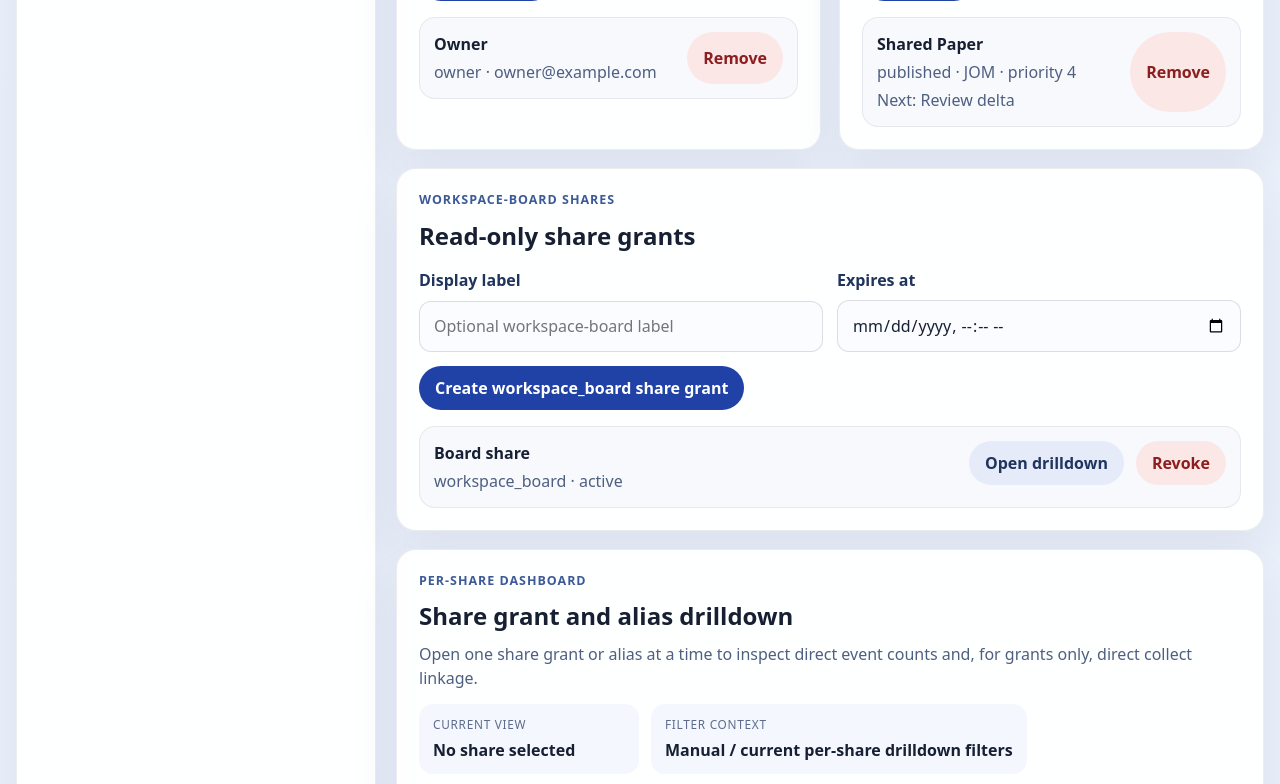
Test: group workspace admin shell › shows the one-time share token after workspace_board grant creation
The width and height of the screenshot is (1280, 784).
(page scrolled)
Click the button "Create workspace_board share grant".
click(582, 388)  # box [419, 366, 744, 410]
(page scrolled)
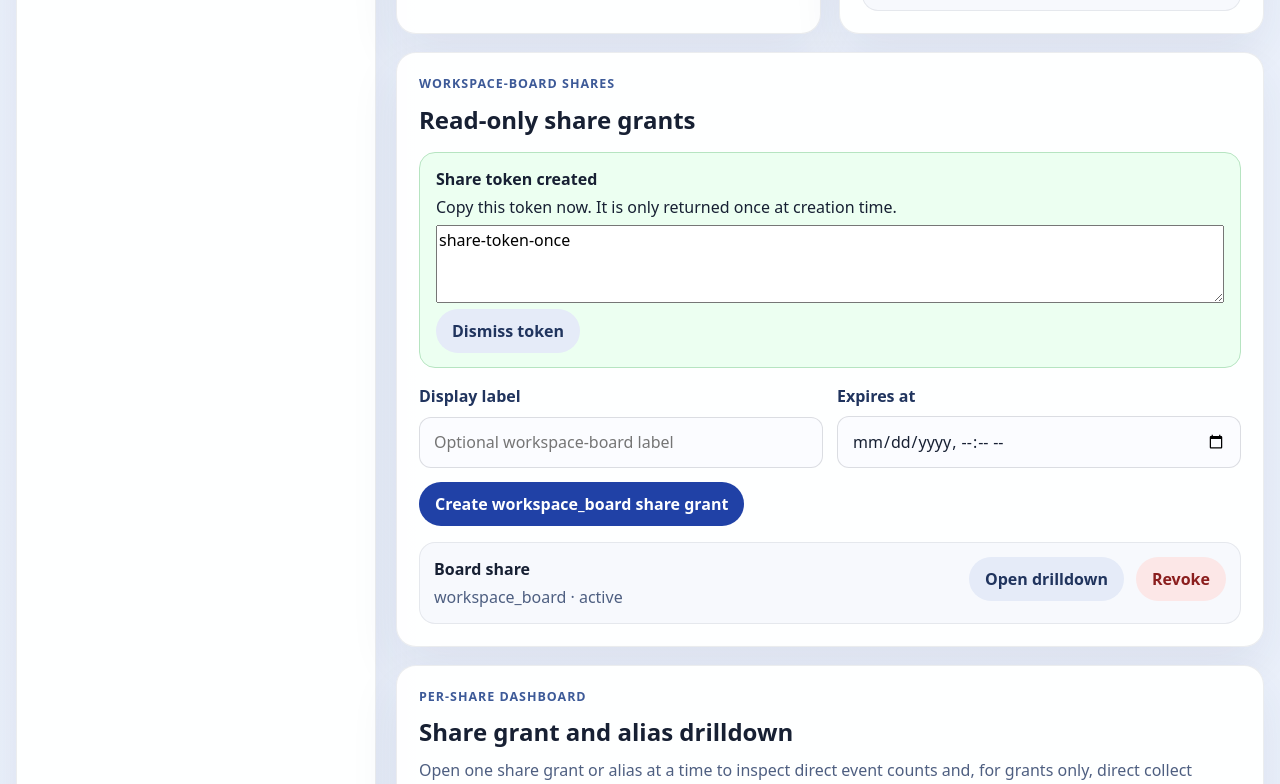
Check: the text box showing "share-token-once" is shown, box [436, 225, 1224, 303]
